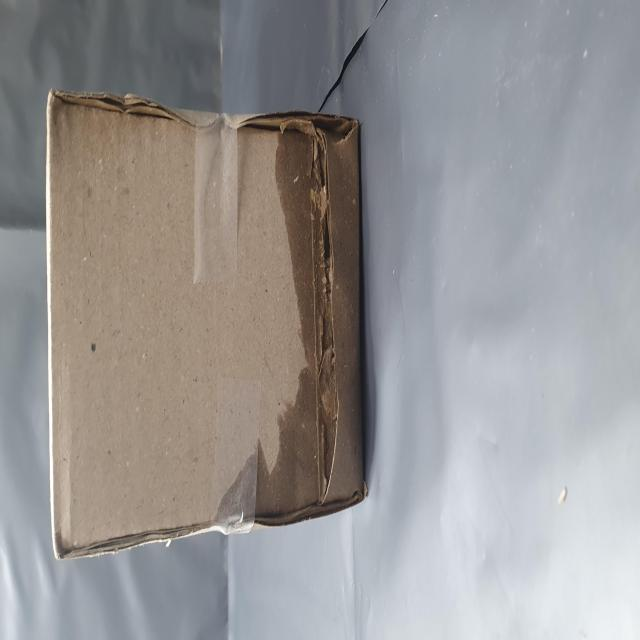wet: (54, 398, 304, 640)
